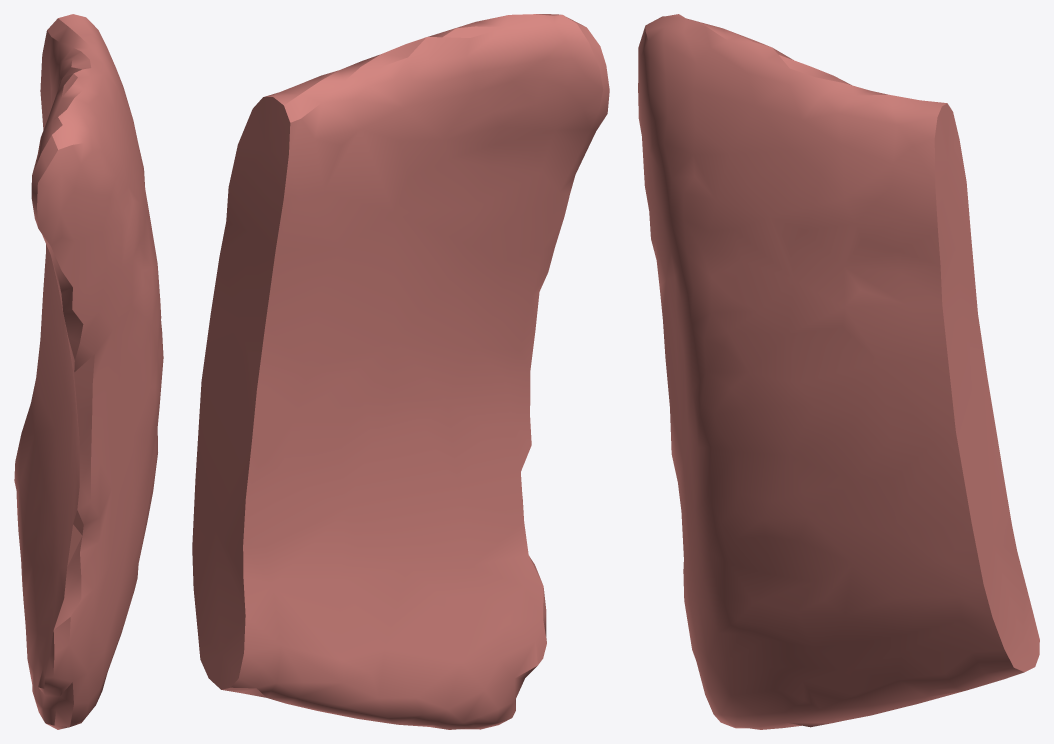
Rendered from fma54491-f_mm2213.glb.
The picture shows the model from 3 angles, left to right: view 1: azimuth 30°, elevation 25°; view 2: azimuth 150°, elevation 25°; view 3: azimuth 270°, elevation 25°; orthographic projection. The views are drawn at different scales.
Parts seen in each view (by area): view 1: FMA54491-F_MM2213; view 2: FMA54491-F_MM2213; view 3: FMA54491-F_MM2213.
Boxes of the visible parts, left/top/right/bottom form: FMA54491-F_MM2213: left=14, top=14, right=163, bottom=729; FMA54491-F_MM2213: left=192, top=14, right=609, bottom=729; FMA54491-F_MM2213: left=638, top=14, right=1039, bottom=729.
Size of the model in its own units: 0.00323 by 0.00855 by 0.00447.
